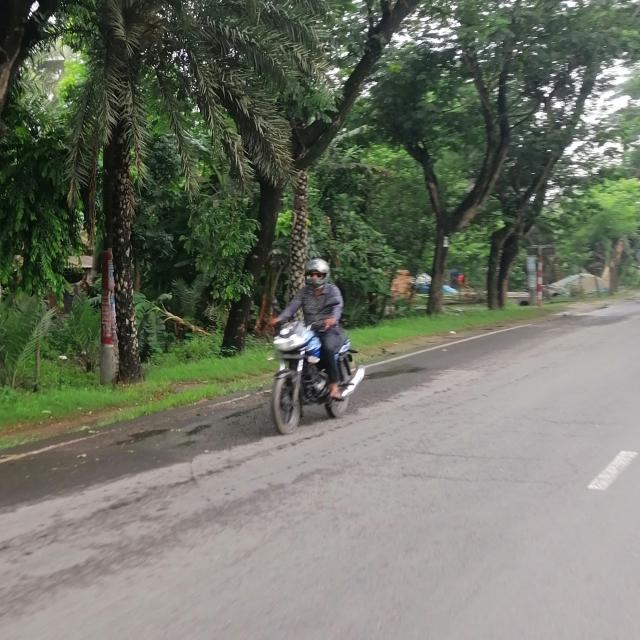Motorbike: (248, 318, 372, 435)
